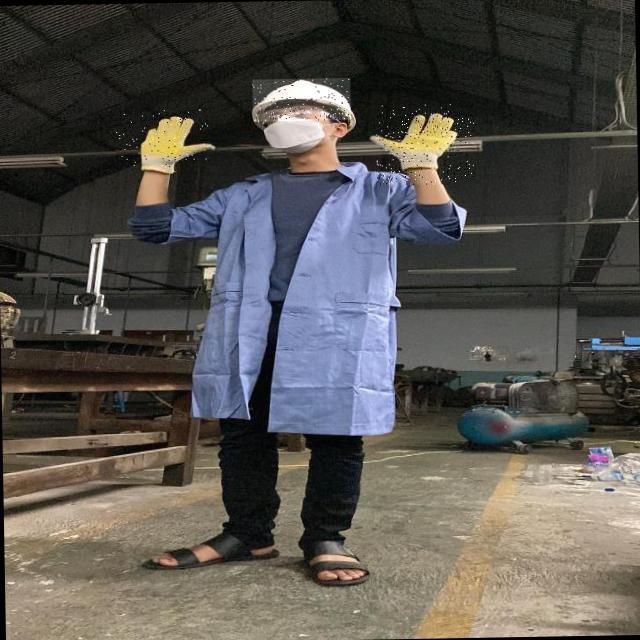Helmet: (252, 78, 351, 122)
Person: (125, 60, 471, 603), (366, 100, 463, 179), (135, 105, 222, 189)
no-boot: (139, 510, 378, 596)
no-vest: (133, 159, 462, 445)
